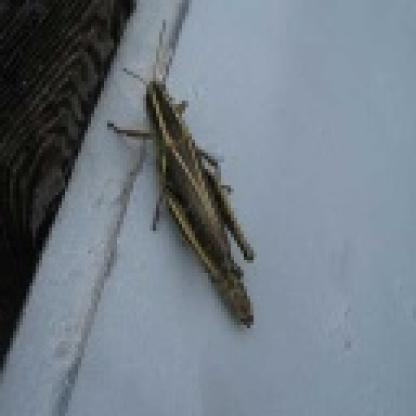grasshopper: (104, 49, 274, 331)
